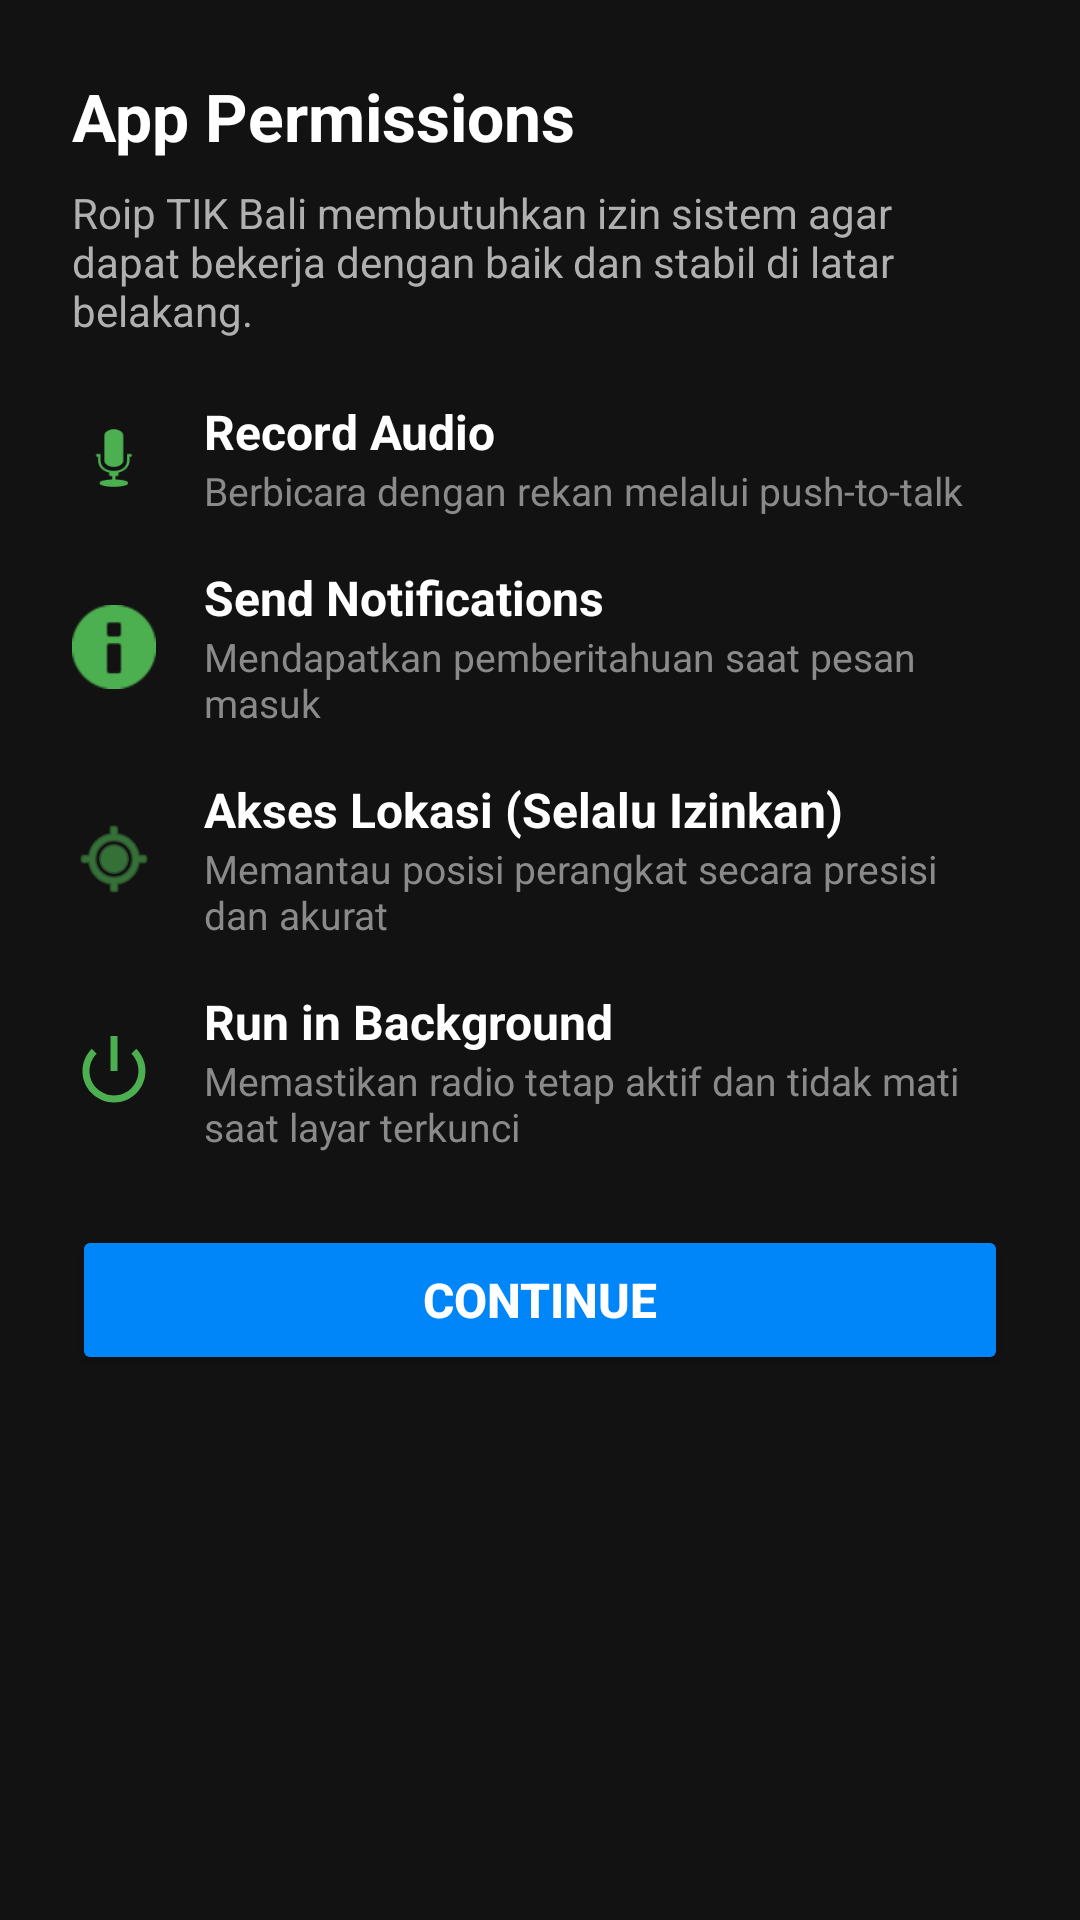

Icon click points for this 1080x1920 phone screenshot, format point (x, y):
info: point (114, 647)
lock power off: point (114, 1069)
mylocation: point (113, 859)
speak now: point (114, 458)
